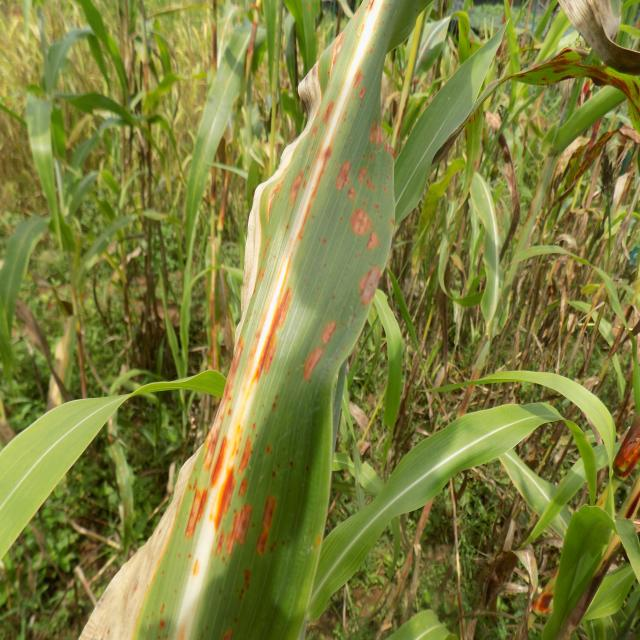millet_healthy: (308, 401, 600, 616), (1, 366, 225, 570), (394, 15, 507, 230), (185, 17, 255, 354), (427, 370, 616, 476), (549, 504, 640, 640), (3, 202, 52, 346), (24, 89, 60, 232)
millet_rust: (78, 0, 431, 639), (471, 172, 514, 336)
